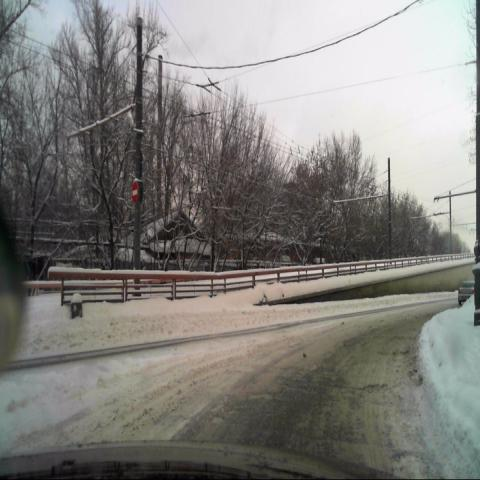3_1: (132, 180, 138, 204)
